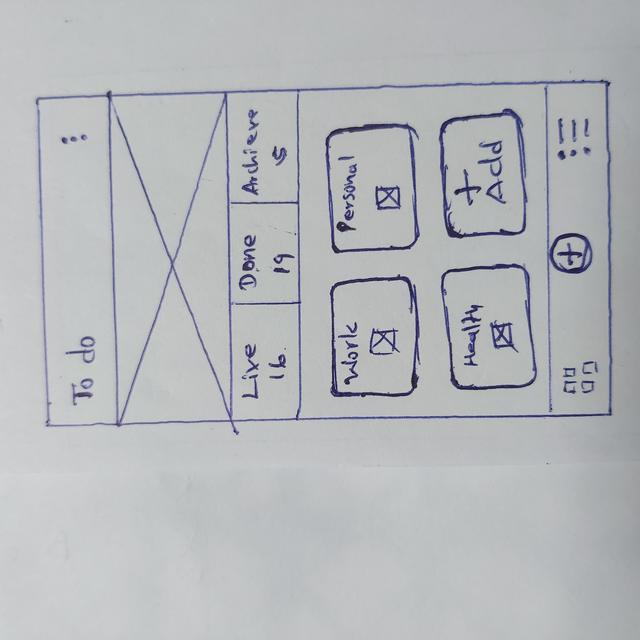AppBar: (36, 96, 118, 426)
BottomNavBar: (542, 80, 616, 417)
BottomNavItems: (546, 110, 610, 177), (549, 350, 611, 414)
CardView: (322, 123, 424, 252), (439, 264, 540, 389), (438, 110, 532, 238), (328, 276, 419, 399)
Fab: (552, 234, 593, 275)
Icon: (556, 116, 591, 158), (562, 362, 597, 395), (455, 172, 477, 204), (60, 133, 89, 142)
Image: (108, 94, 232, 421), (370, 329, 398, 351), (492, 322, 513, 348), (376, 187, 400, 208)
Layout: (226, 92, 298, 202), (231, 306, 299, 418), (229, 206, 299, 303)
MainLayout: (35, 91, 614, 422)
TextView: (334, 155, 358, 234), (66, 336, 95, 401), (243, 107, 260, 196), (483, 141, 504, 201), (241, 344, 262, 402), (463, 303, 479, 369), (342, 325, 360, 383), (244, 233, 257, 289), (267, 354, 288, 383), (269, 251, 293, 273), (271, 144, 288, 168)
